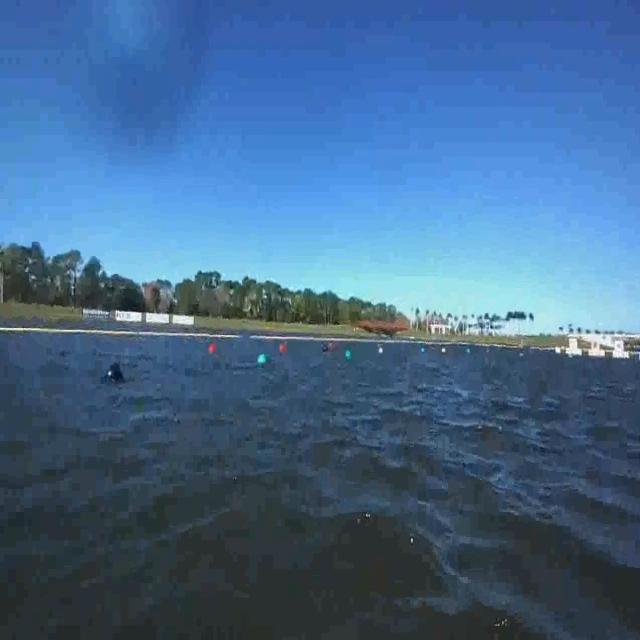black-buoy: (100, 364, 136, 400)
green-buoy: (342, 349, 355, 366), (259, 353, 271, 367)
red-buoy: (208, 344, 218, 355), (280, 345, 287, 354)
